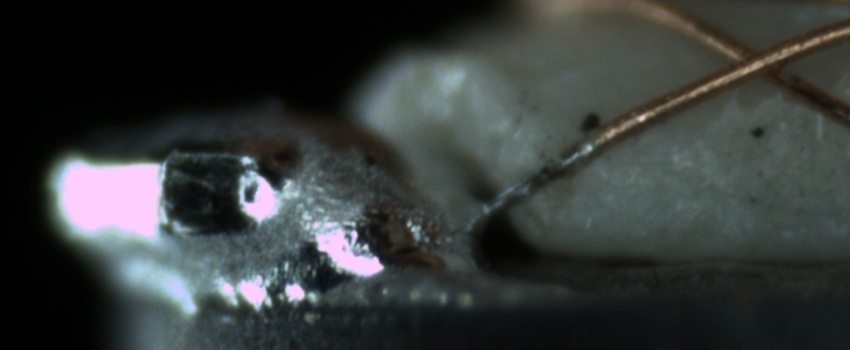CL: (707, 28, 810, 92)
TS: (482, 134, 601, 218)
TTCW: (469, 97, 669, 229)
